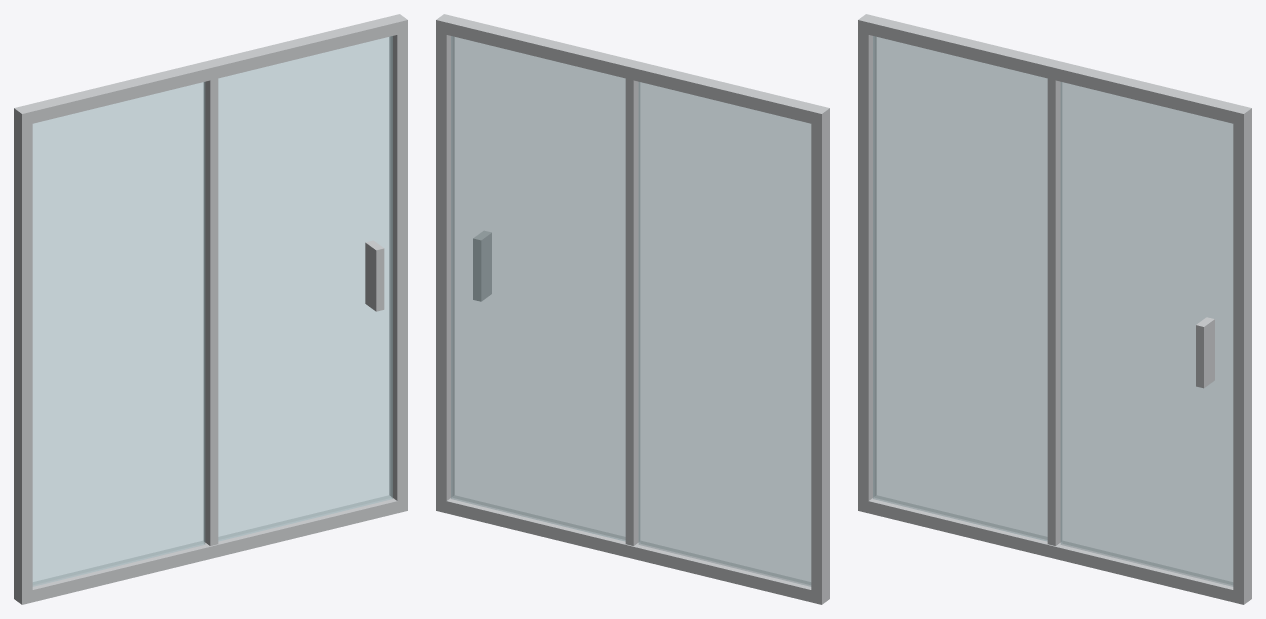
The model's file is mampara-aluminio-claro.glb.
3 views of the same model, side by side, from view 1: azimuth 30°, elevation 25°; view 2: azimuth 150°, elevation 25°; view 3: azimuth 330°, elevation 25° (orthographic).
Visible parts, largest first — view 1: glass-0.4, glass0.4, post-0.8, post0.8, rail1.975, rail0.025, center, handle; view 2: glass0.4, glass-0.4, post-0.8, post0.8, rail1.975, rail0.025, center, handle; view 3: glass-0.4, glass0.4, post0.8, post-0.8, rail1.975, rail0.025, center, handle.
Boxes of the visible parts, x1,y1,x2,y2 form: glass-0.4: (32,82,205,586); glass0.4: (218,36,392,541); post-0.8: (14,105,32,604); post0.8: (389,14,407,513); rail1.975: (25,15,401,124); rail0.025: (27,495,402,602); center: (204,61,218,545); handle: (365,240,384,311); glass0.4: (451,36,625,541); glass-0.4: (638,82,811,586); post-0.8: (811,105,829,604); post0.8: (436,14,454,512); rail1.975: (441,16,820,124); rail0.025: (441,495,816,603); center: (625,61,639,545); handle: (473,231,491,301); glass-0.4: (873,36,1047,541); glass0.4: (1060,82,1233,586); post0.8: (1233,105,1251,604); post-0.8: (858,14,876,513); rail1.975: (863,15,1240,124); rail0.025: (863,495,1238,603); center: (1047,60,1061,545); handle: (1196,317,1214,388).
Size of the model in its own units: 1.64 by 2 by 0.12.
